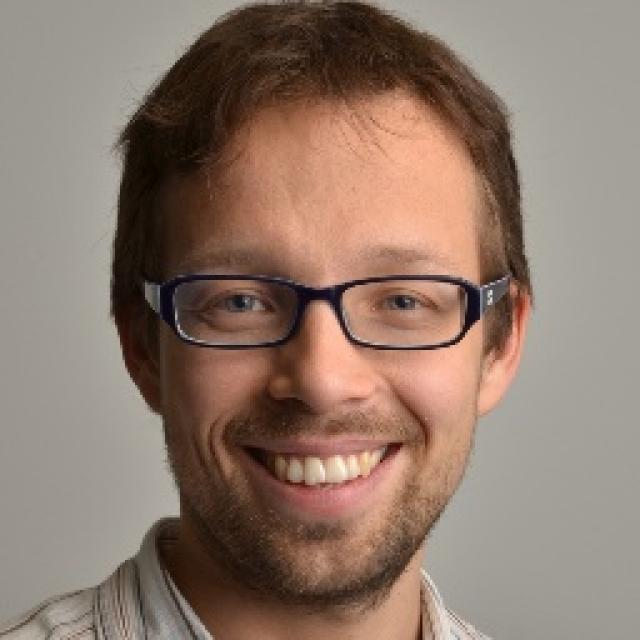earlobe: (476, 281, 531, 417), (116, 295, 164, 416)
